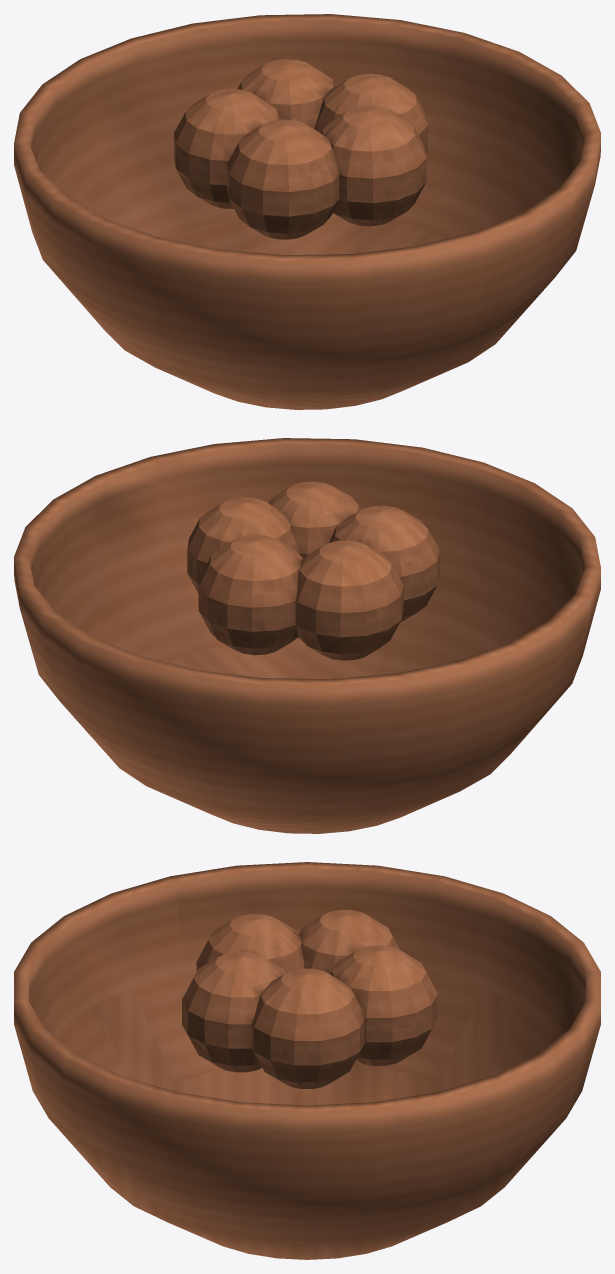
The model's file is p_bowl.glb.
3 views of the same model, one above another, from view 1: azimuth 30°, elevation 25°; view 2: azimuth 150°, elevation 25°; view 3: azimuth 270°, elevation 25° (orthographic).
Visible parts, largest first — view 1: bowl; view 2: bowl; view 3: bowl.
Boxes of the visible parts, <box> form: bowl: <box>14,14,600,409</box>; bowl: <box>14,438,600,833</box>; bowl: <box>14,862,600,1259</box>.
Size of the model in its own units: 0.475 by 0.2486 by 0.4714.
Materials: 1 (1 with a texture image).
